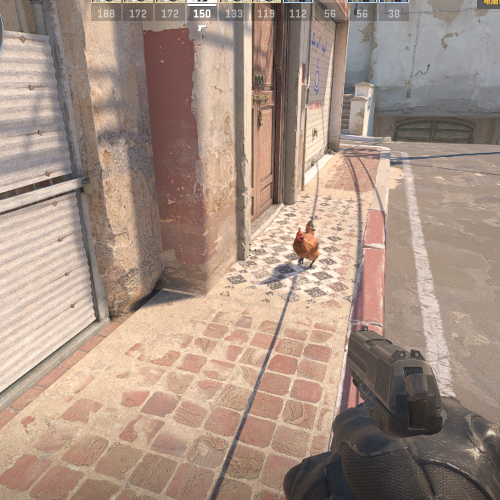chicken: (291, 218, 320, 270)
